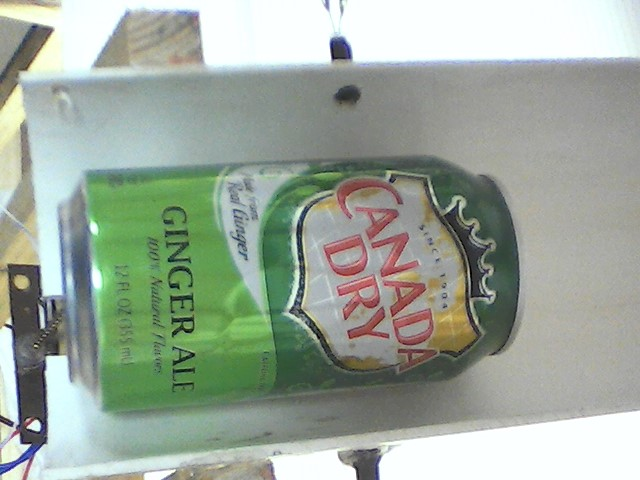lata: (56, 151, 529, 416)
